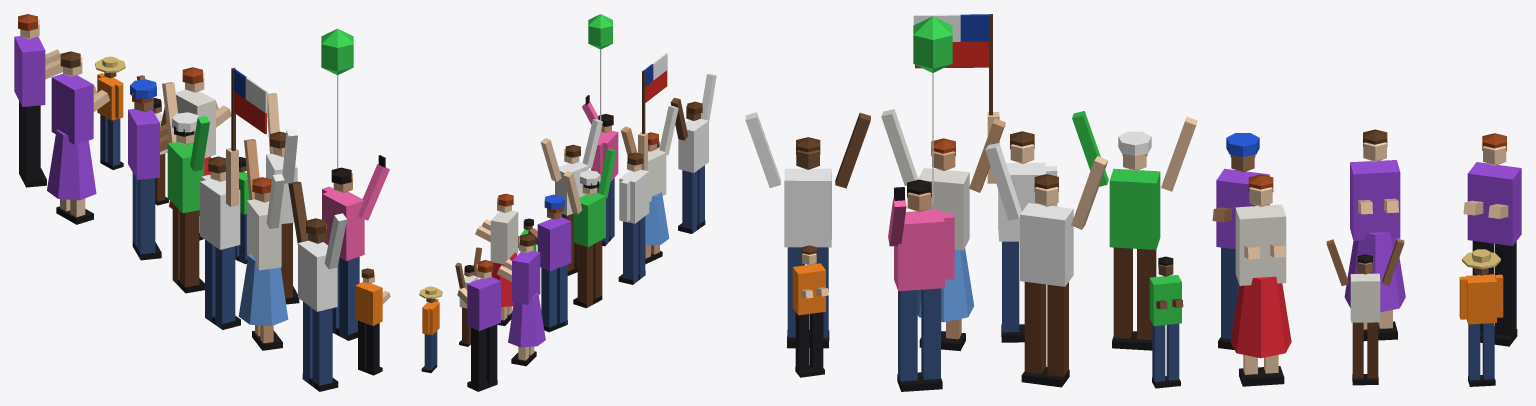
The model's file is publico_fiesta_5.obj.
3 renders of one model, left to right at view 1: azimuth 30°, elevation 25°; view 2: azimuth 150°, elevation 25°; view 3: azimuth 270°, elevation 25°, orthographic. The views are drawn at different scales.
Parts seen in each view (by area): view 1: publico_fiesta_5; view 2: publico_fiesta_5; view 3: publico_fiesta_5.
Part boxes in pixels (<box>): publico_fiesta_5: <box>14,14,390,391</box>; publico_fiesta_5: <box>419,14,716,391</box>; publico_fiesta_5: <box>745,14,1521,391</box>.
Bounding box in the file's own units: 1.51 × 3.09 × 5.92.
